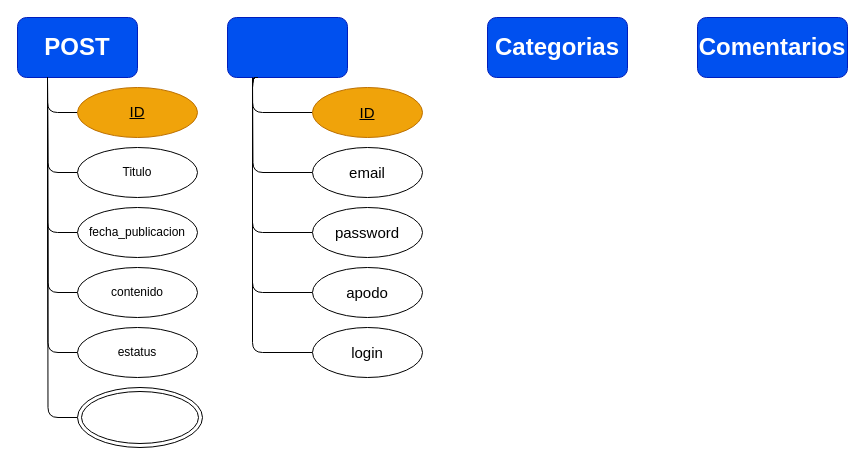
The diagram is 865 pixels wide and 465 high, and some of its shapes have lost their labels. The centre of each missing label's shape, as x and y in pixels:
"etiquetas" goes at [139,417].
"Usuarios" goes at [287,47].
